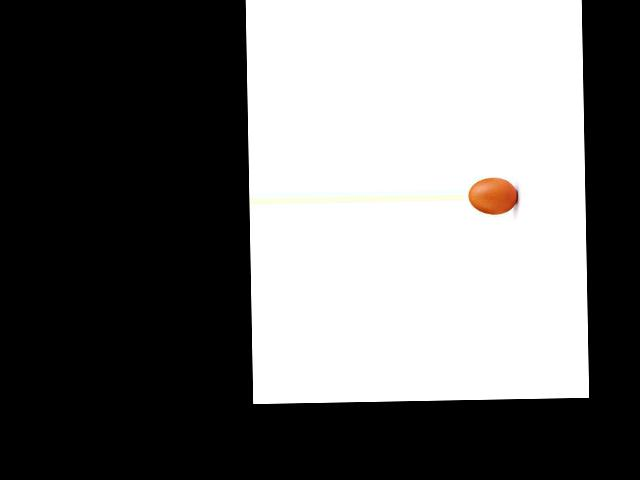egg: (468, 178, 517, 214)
